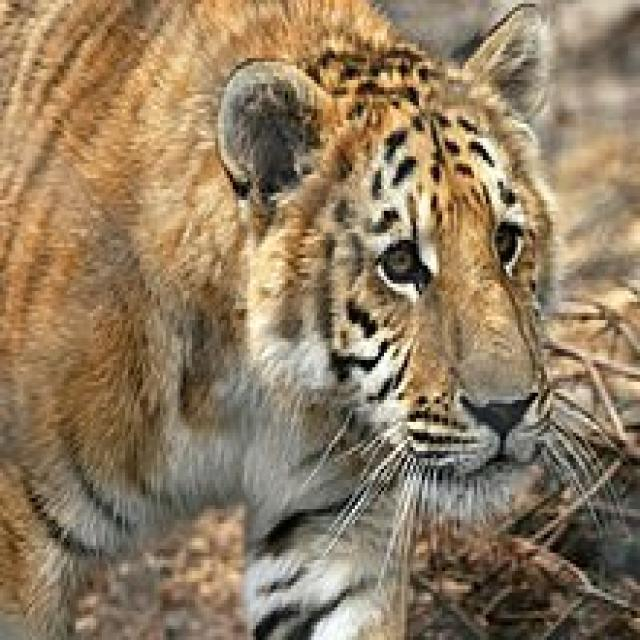Jaguar: (151, 3, 602, 640)
